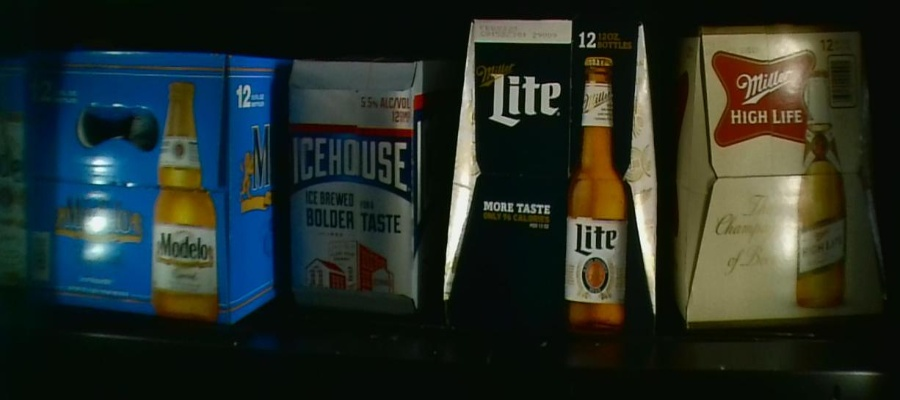bottle: (1, 53, 274, 323), (446, 17, 660, 335), (674, 28, 887, 326), (277, 53, 428, 323)
